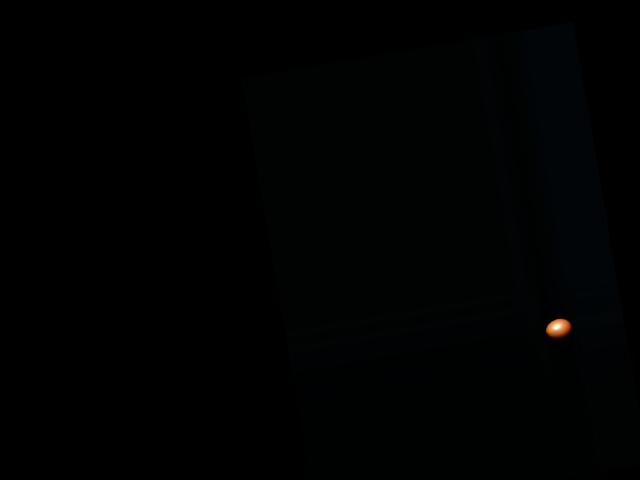egg: (544, 317, 574, 342)
